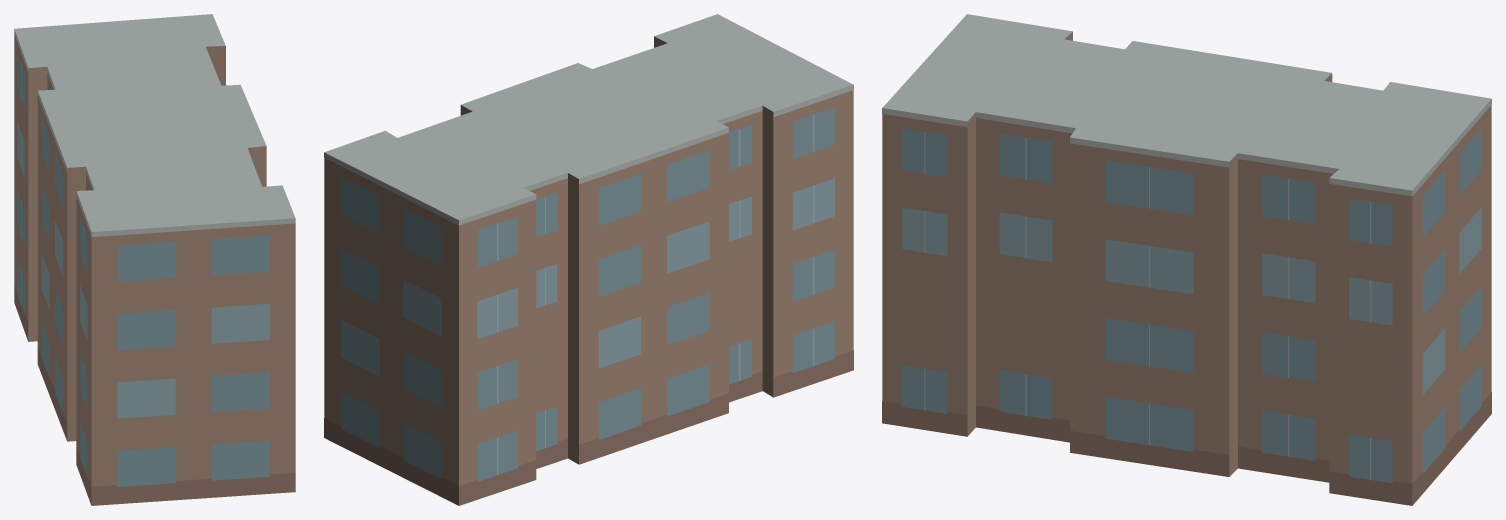
The model's file is survey-upis-32638404.glb.
3 renders of one model, left to right at view 1: azimuth 30°, elevation 25°; view 2: azimuth 150°, elevation 25°; view 3: azimuth 270°, elevation 25°, orthographic. The views are drawn at different scales.
Parts seen in each view (by area): view 1: survey-upis-32638404.tmp; view 2: survey-upis-32638404.tmp; view 3: survey-upis-32638404.tmp.
Boxes of the visible parts, <box> form: survey-upis-32638404.tmp: <box>14,14,295,505</box>; survey-upis-32638404.tmp: <box>324,14,853,505</box>; survey-upis-32638404.tmp: <box>882,14,1491,505</box>.
Bounding box in the file's own units: 15.87 × 13.2 × 23.14.
